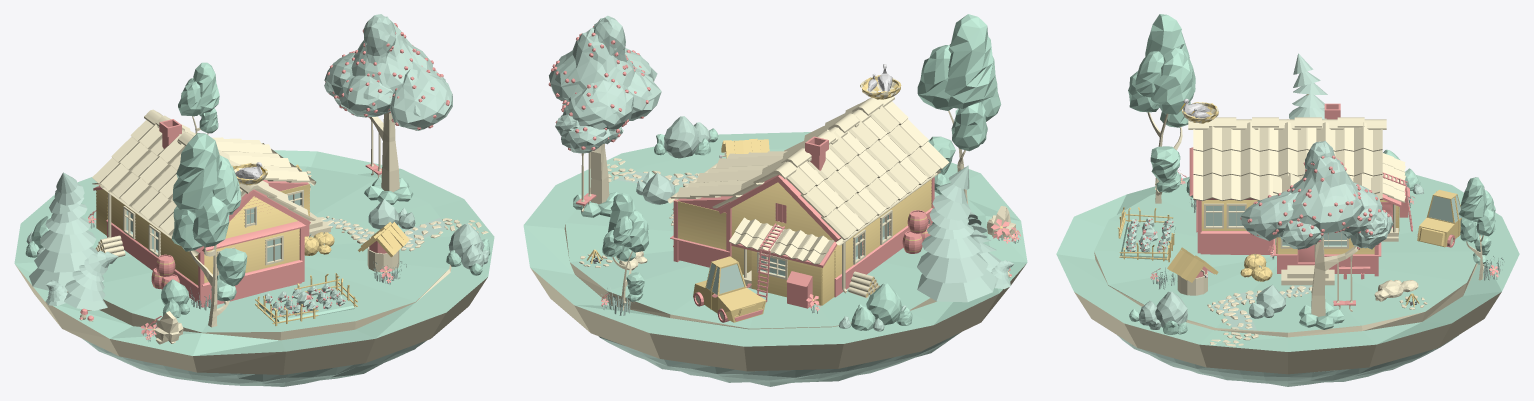
The model's file is House_kal.glb.
The picture shows the model from 3 angles, left to right: view 1: azimuth 30°, elevation 25°; view 2: azimuth 150°, elevation 25°; view 3: azimuth 270°, elevation 25°; orthographic projection. The views are drawn at different scales.
Parts seen in each view (by area): view 1: podstavka-elki2 (×2), House.1-Mat (×2), podstavka-Mat, Apple tree.1-elki, Birch-elki2, House.1-Mat.2, House.1-Mat.1, oblako, Birch.1-elki2, elka.2-elki, Apple tree.1-Mat, bushes sw (×2) (+19 smaller); view 2: podstavka-elki2 (×2), House.1-Mat (×2), podstavka-Mat, Apple tree.1-elki, House.1-Mat.1, Birch-elki2, House.1-Mat.2 (×2), oblako, Birch.1-elki2, bushes sw (×2), car.1-Mat.1, Cone.1 (+17 smaller); view 3: podstavka-elki2 (×2), House.1-Mat (×2), podstavka-Mat, Apple tree.1-elki, Birch-elki2, House.1-Mat.2 (×2), oblako, Birch.1-elki2, car.1-Mat.1, Apple tree.1-Mat, House.1-Mat.1, Extrude (+14 smaller).
Boxes of the visible parts, x1=… form: podstavka-elki2 (×2): x1=14, y1=150, x2=494, y2=355; House.1-Mat (×2): x1=92, y1=109, x2=330, y2=275; podstavka-Mat: x1=15, y1=265, x2=487, y2=374; Apple tree.1-elki: x1=324, y1=14, x2=452, y2=130; Birch-elki2: x1=171, y1=133, x2=247, y2=301; House.1-Mat.2: x1=93, y1=119, x2=310, y2=307; House.1-Mat.1: x1=96, y1=184, x2=309, y2=285; oblako: x1=82, y1=338, x2=426, y2=386; Birch.1-elki2: x1=178, y1=62, x2=219, y2=133; elka.2-elki: x1=64, y1=250, x2=118, y2=310; Apple tree.1-Mat: x1=369, y1=113, x2=399, y2=192; bushes sw (×2): x1=161, y1=223, x2=484, y2=305; podstavka-elki2 (×2): x1=523, y1=132, x2=1027, y2=346; House.1-Mat (×2): x1=667, y1=95, x2=949, y2=293; podstavka-Mat: x1=530, y1=224, x2=1025, y2=371; Apple tree.1-elki: x1=549, y1=15, x2=661, y2=153; House.1-Mat.1: x1=676, y1=179, x2=931, y2=305; Birch-elki2: x1=917, y1=14, x2=1001, y2=194; House.1-Mat.2 (×2): x1=670, y1=136, x2=934, y2=308; oblako: x1=598, y1=332, x2=960, y2=386; Birch.1-elki2: x1=602, y1=193, x2=648, y2=301; bushes sw (×2): x1=664, y1=116, x2=901, y2=325; car.1-Mat.1: x1=693, y1=256, x2=766, y2=322; Cone.1: x1=917, y1=252, x2=988, y2=283; podstavka-elki2 (×2): x1=1056, y1=175, x2=1519, y2=351; House.1-Mat (×2): x1=1188, y1=117, x2=1405, y2=285; podstavka-Mat: x1=1074, y1=252, x2=1501, y2=374; Apple tree.1-elki: x1=1241, y1=141, x2=1393, y2=249; Birch-elki2: x1=1128, y1=14, x2=1195, y2=192; House.1-Mat.2 (×2): x1=1189, y1=103, x2=1412, y2=279; oblako: x1=1117, y1=335, x2=1458, y2=386; Birch.1-elki2: x1=1459, y1=177, x2=1495, y2=264; car.1-Mat.1: x1=1417, y1=190, x2=1461, y2=247; Apple tree.1-Mat: x1=1311, y1=238, x2=1358, y2=316; House.1-Mat.1: x1=1201, y1=200, x2=1399, y2=254; Extrude: x1=1207, y1=285, x2=1312, y2=346.
Size of the model in its own units: 21.44 by 13.96 by 21.1.
